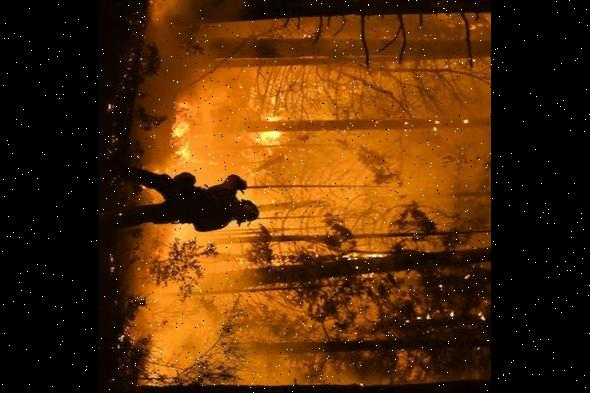fire: (107, 0, 312, 179)
